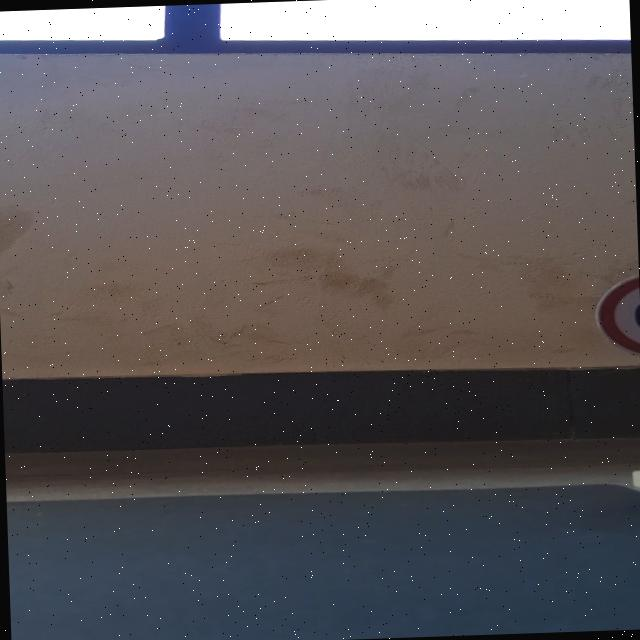Reject: (593, 264, 640, 359)
